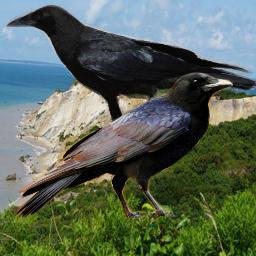Crow: (5, 2, 256, 154), (13, 70, 233, 219)
